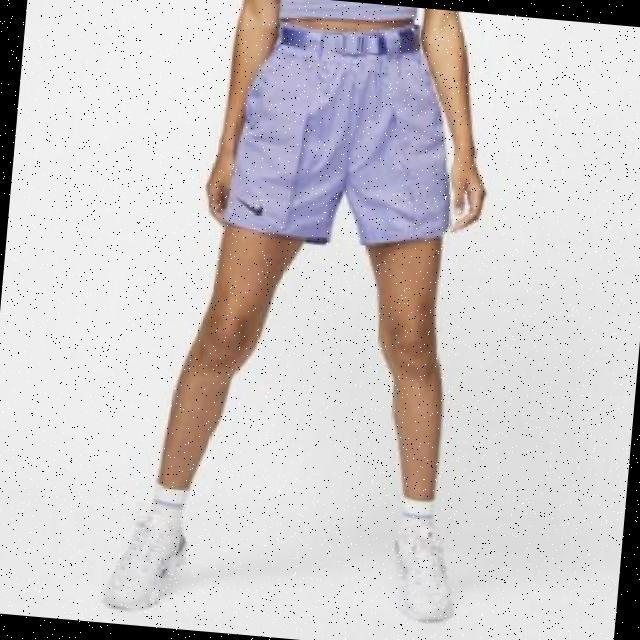Nike: (238, 194, 265, 213)
